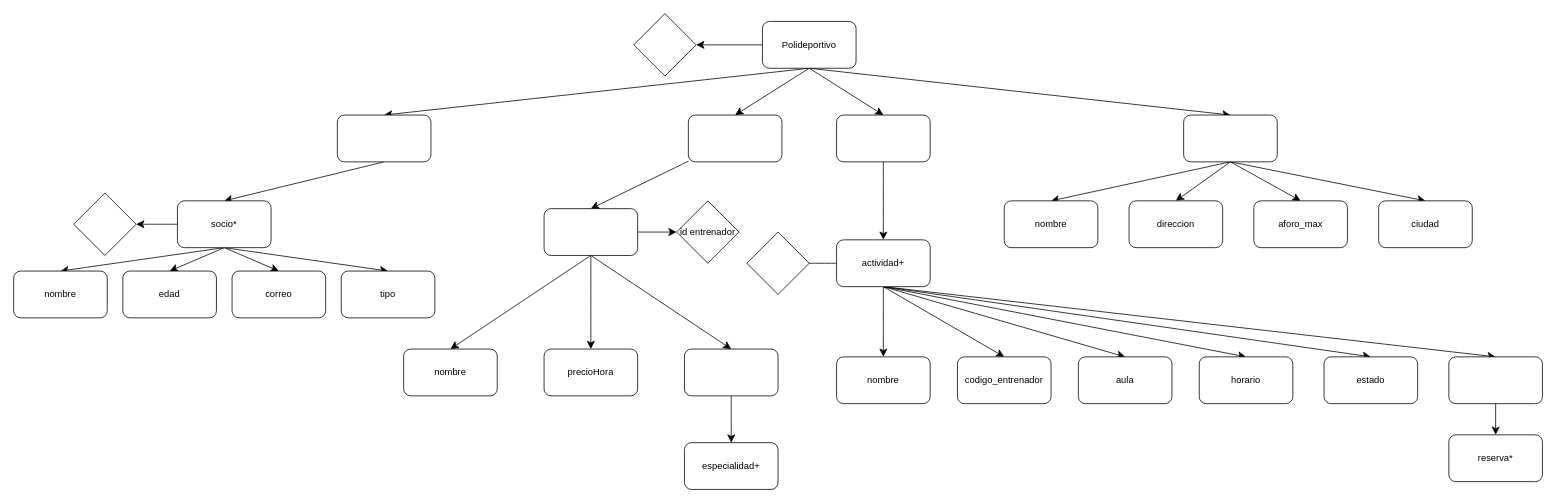
Image size: 1556x503. Some labels were removed from this diagram. Each missing label, with the centre of its shape:
actividades: the point at 883,138
entrenador*: the point at 590,231
entrenadores: the point at 735,138
especialidades: the point at 731,372
id actividad: the point at 777,262
id socio: the point at 104,223
info: the point at 1230,138
PD-08019: the point at 664,44
reservas: the point at 1495,380
socios: the point at 384,138
